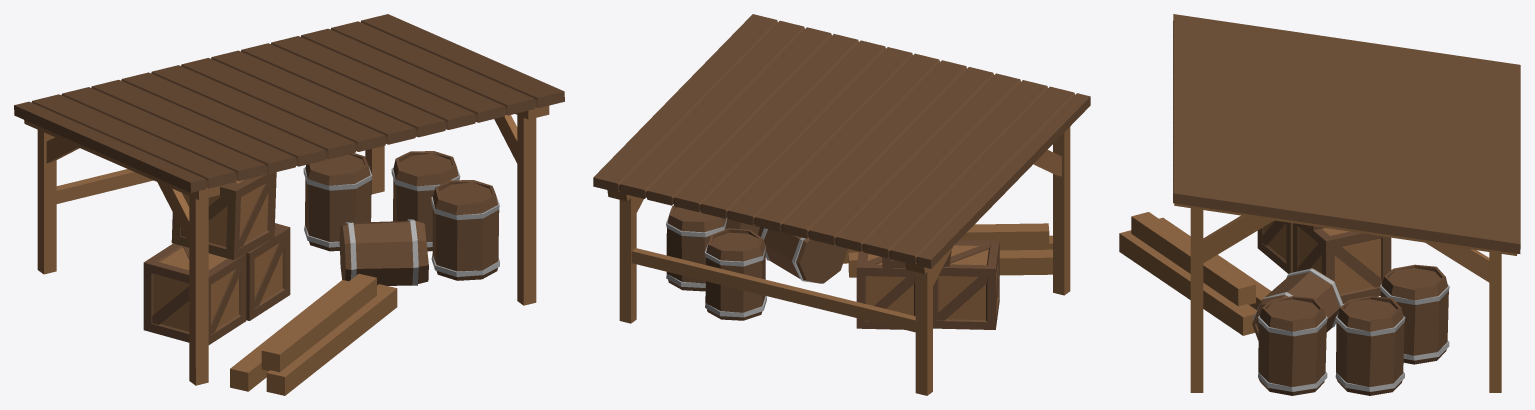
File: Warehouse_2_lvl_mat.fbx
The picture shows the model from 3 angles, left to right: view 1: azimuth 30°, elevation 25°; view 2: azimuth 150°, elevation 25°; view 3: azimuth 270°, elevation 25°; orthographic projection. The views are drawn at different scales.
Visible parts, largest first — view 1: Warehouse_2_lvl_mat; view 2: Warehouse_2_lvl_mat; view 3: Warehouse_2_lvl_mat.
Part boxes in pixels (bbox=[...]): Warehouse_2_lvl_mat: bbox=[14, 14, 564, 395]; Warehouse_2_lvl_mat: bbox=[593, 14, 1090, 395]; Warehouse_2_lvl_mat: bbox=[1119, 14, 1520, 395].
Size of the model in its own units: 3.62 by 1.97 by 3.43.
